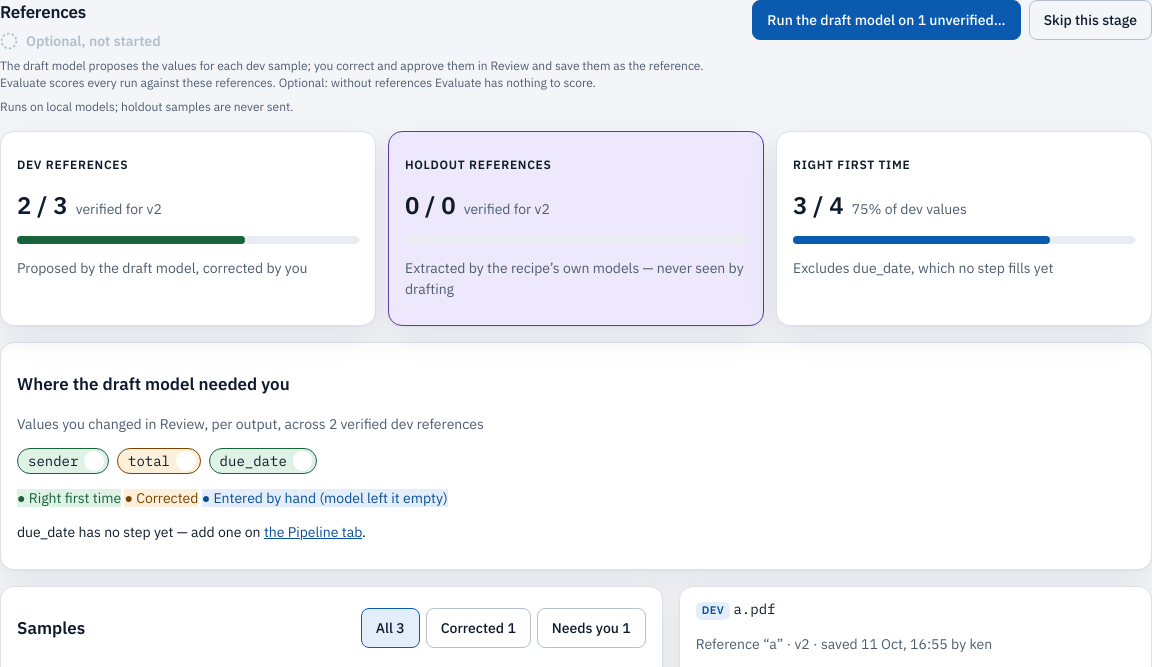
Test case: ReferencesTab samples list › filters All / Corrected / Needs you with counts
Click the button "Corrected 1" at point(478, 628), box left=426, top=608, right=531, bottom=648
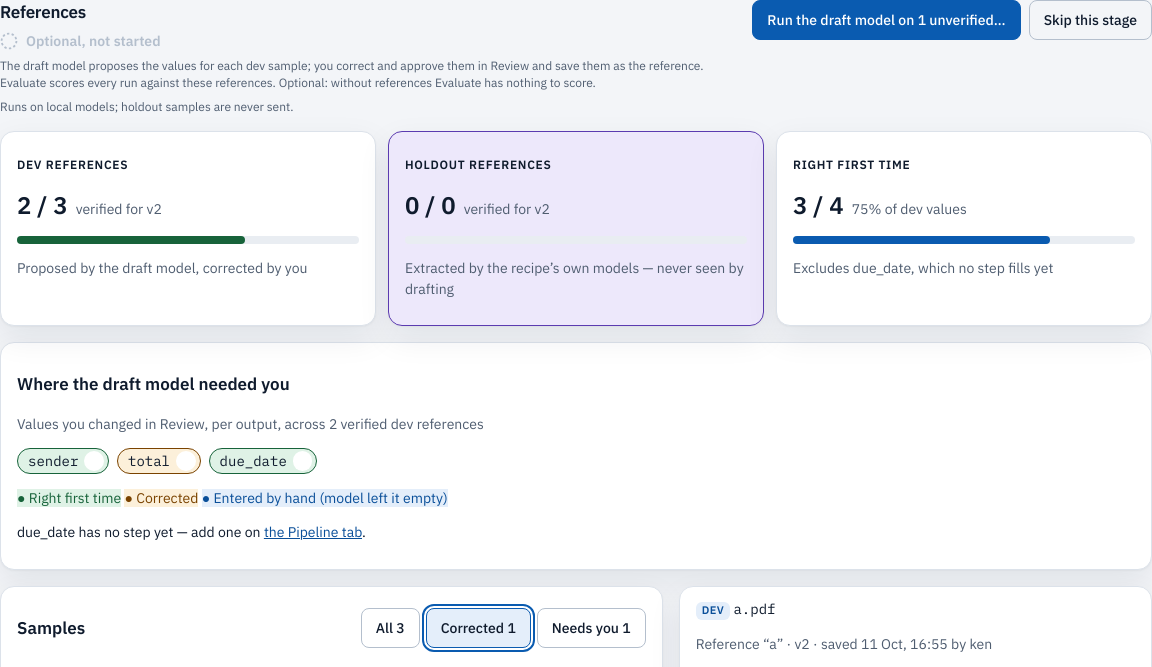
Check: the button "Corrected 1" is pressed, box left=426, top=608, right=531, bottom=648
Click the button "Needs you 1" at point(591, 628), box left=537, top=608, right=646, bottom=648
(page scrolled)
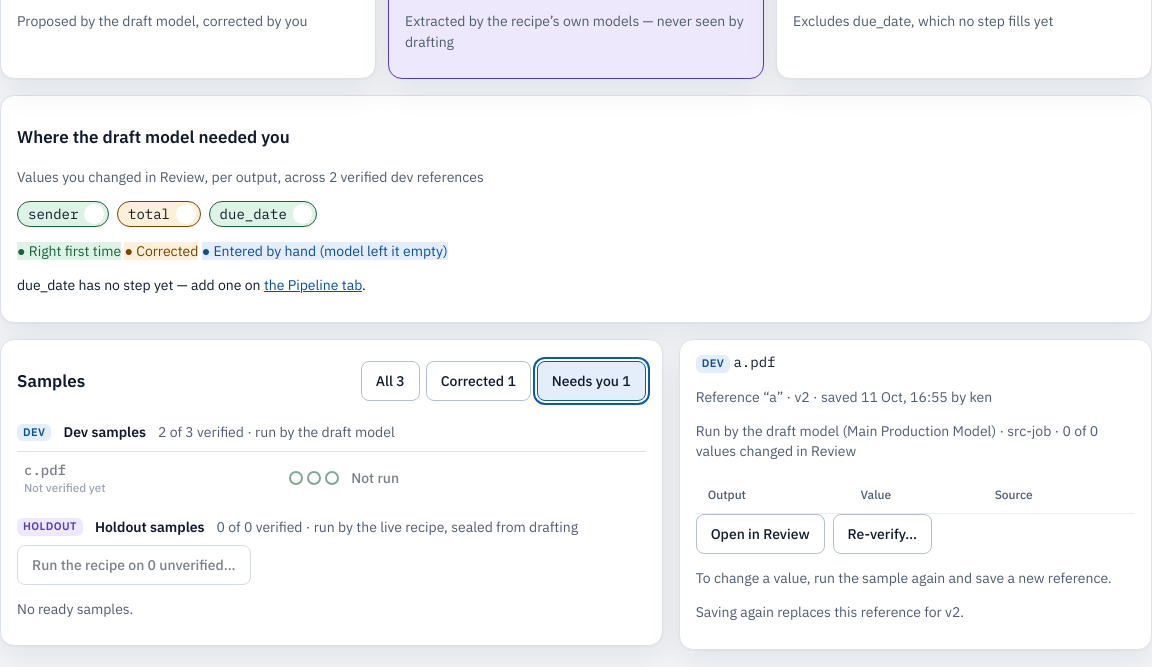
Check: the text "c.pdf" is shown, box left=24, top=461, right=66, bottom=479
